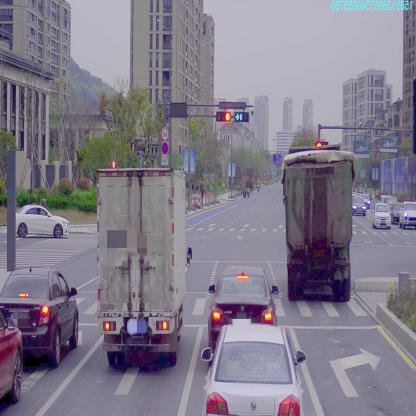traffic-light: (216, 112, 231, 123), (235, 112, 250, 122)
